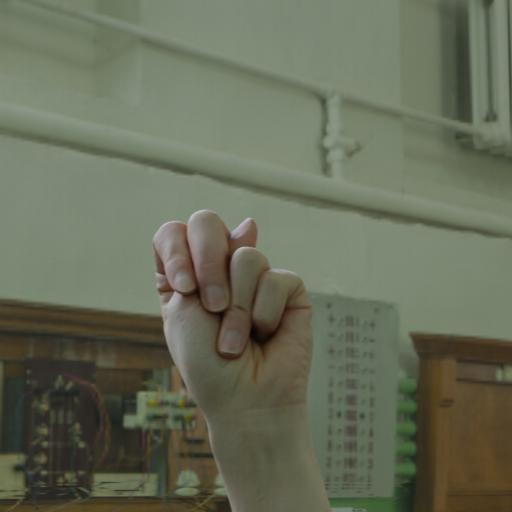N: (134, 185, 326, 458)
